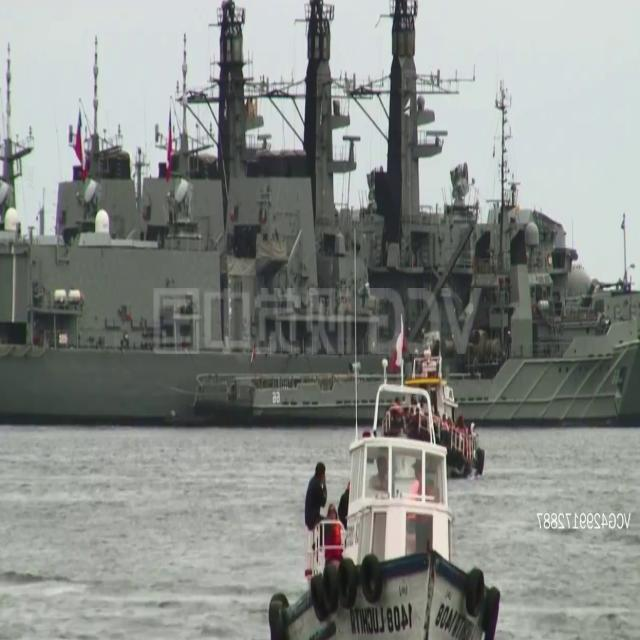houseboat: (271, 376, 500, 640), (378, 351, 484, 481)
navalvessels: (0, 0, 640, 431)
